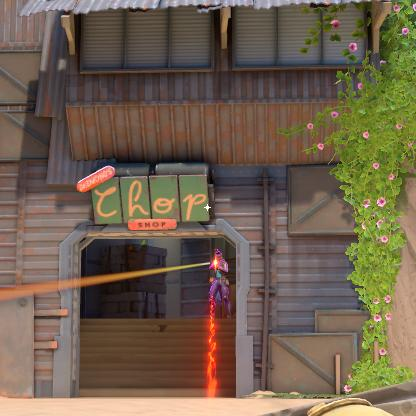enemyBody: (212, 251, 235, 309)
